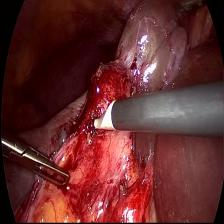Grasper: (0, 121, 72, 198)
Hook: (91, 99, 121, 146)
